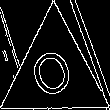O_SE: (27, 39, 82, 106)
